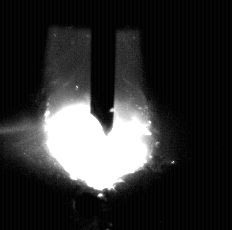arame: (91, 0, 116, 136)
poca: (45, 0, 149, 230)
